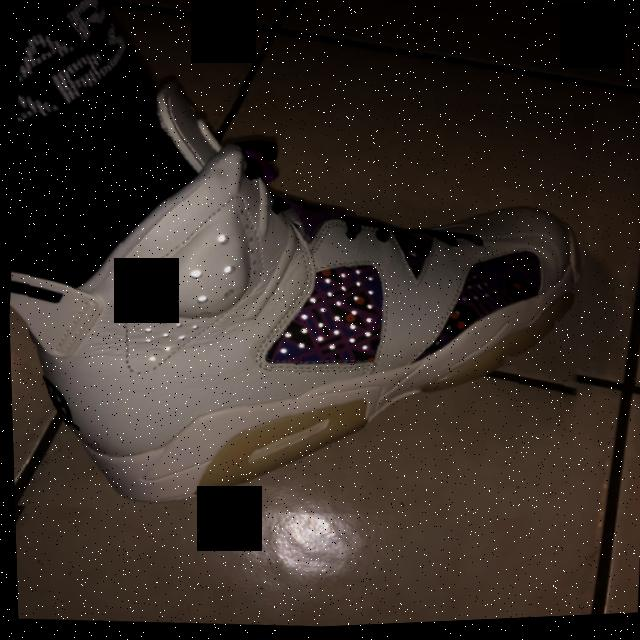shoe: (2, 59, 603, 544)
